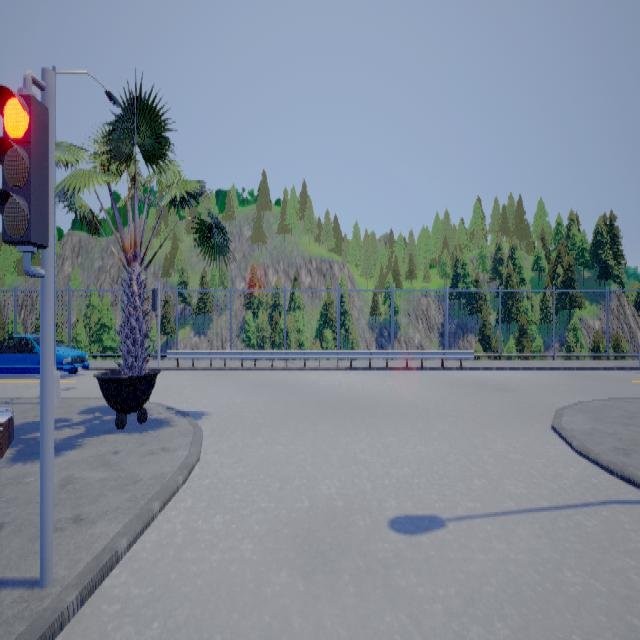red_light: (1, 69, 50, 276)
vehicle: (1, 330, 90, 372)
